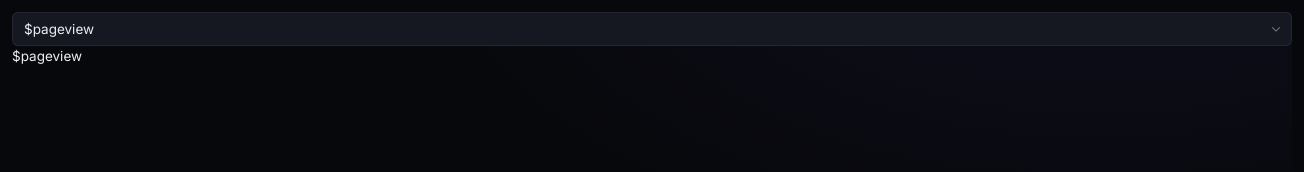
Scenario: SuggestInput › filters while typing and picks an option with the mouse
Replace the text in the dropdown named "Series 1 event" with "PUR": point(652, 29) [12,12,1292,46]
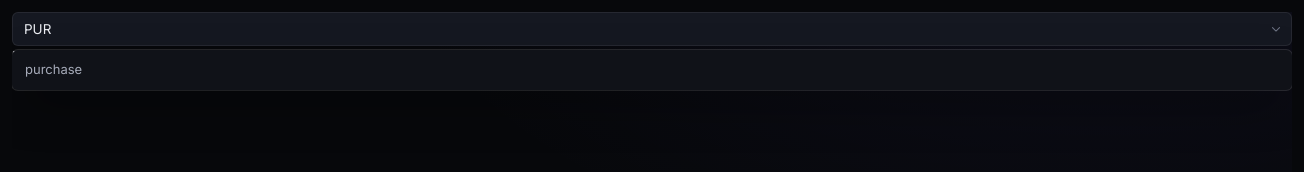
Press the mouse on the option "purchase": point(54, 69) [25,61,82,77]
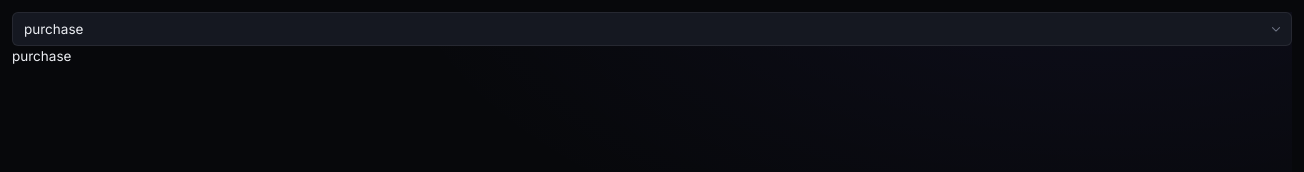
Result: the text with test id "value" reads "purchase" at [12,48,71,64]
